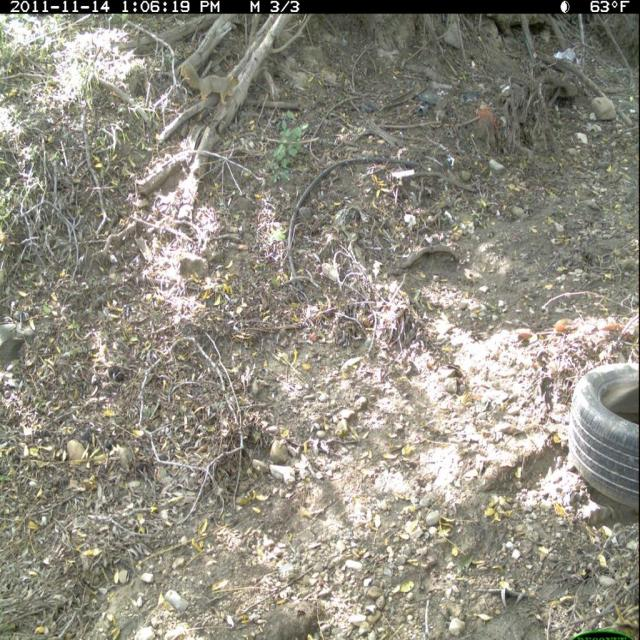squirrel: (180, 60, 242, 108)
